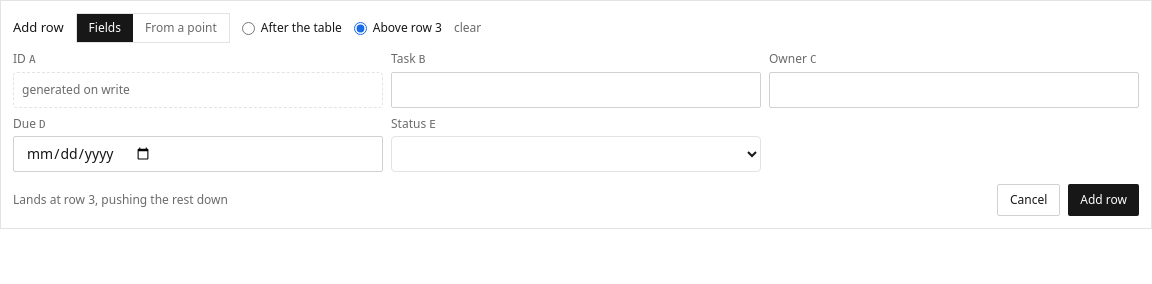
Scenario: what the API refuses › clears the message on the next press
Type "Runbook" into the field labelled "Task B".
click(576, 90); type("Runbook")  # box top-left (391, 72), bottom-right (761, 108)
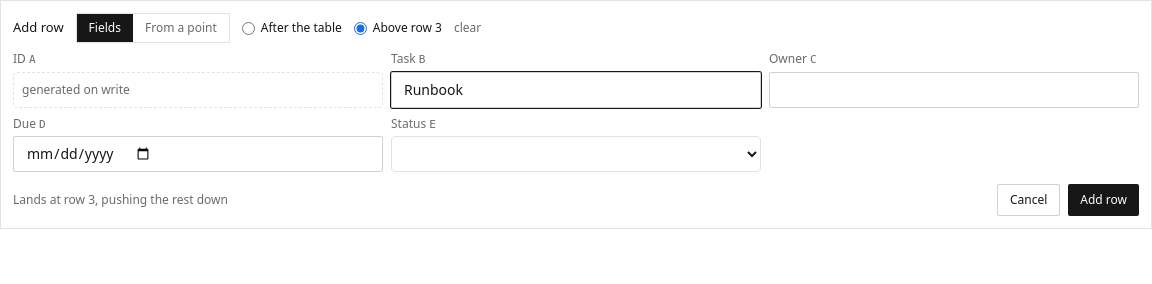
Click the button with test id "add-row-submit".
click(1104, 200)  # box top-left (1068, 184), bottom-right (1139, 216)
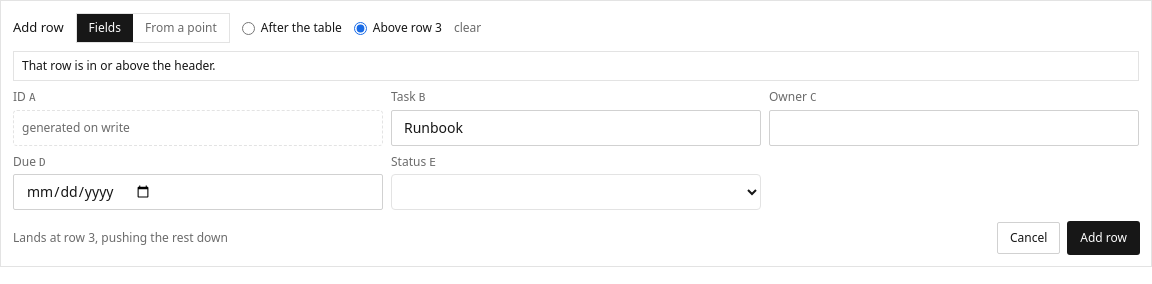
Result: the text "That row is in or above the header." is shown at top-left (13, 51), bottom-right (1139, 81)
Click the button with test id "add-row-submit".
click(1104, 238)  # box top-left (1068, 222), bottom-right (1139, 254)
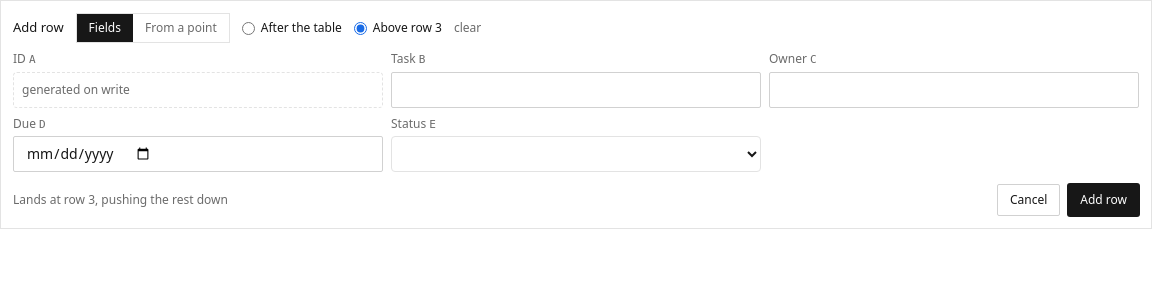
Result: the text with test id "add-row-refused" is gone
